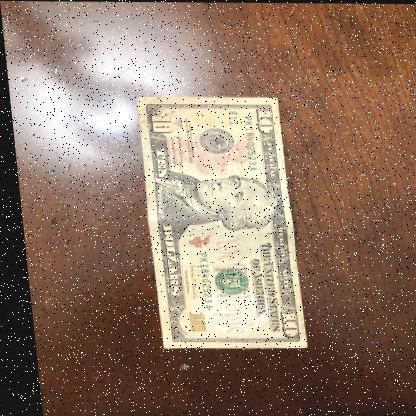ten-front: (133, 94, 301, 349)
